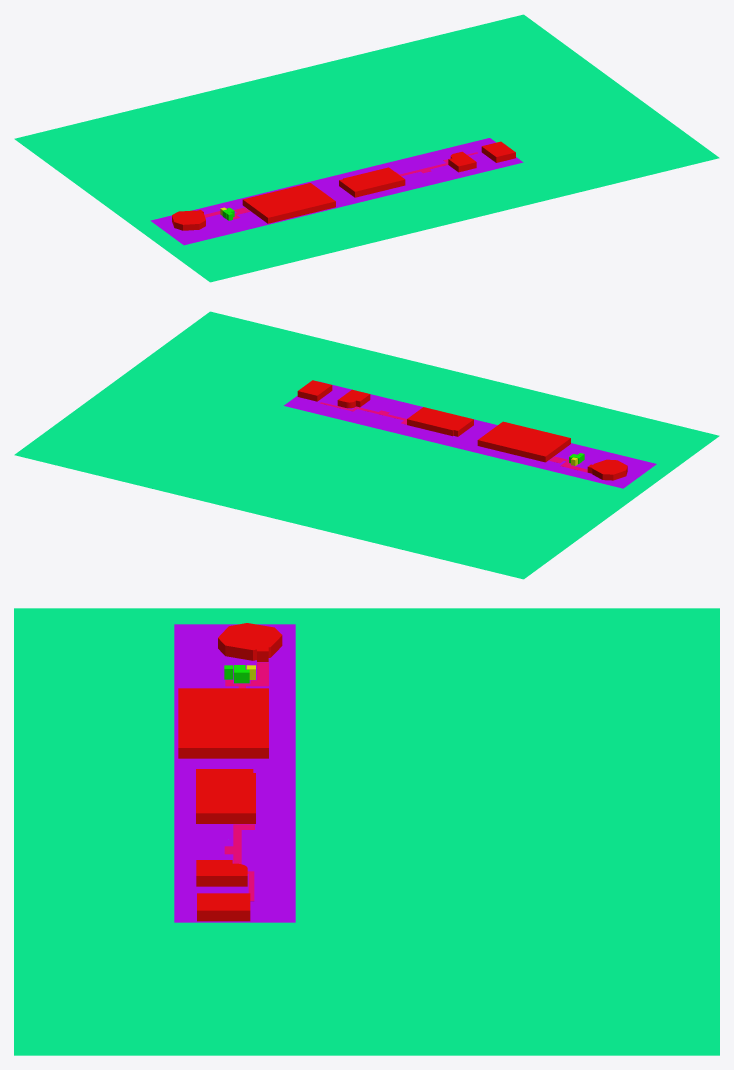
File: njc-b2.glb
3 views of the same model, one above another, from view 1: azimuth 30°, elevation 25°; view 2: azimuth 150°, elevation 25°; view 3: azimuth 270°, elevation 25° (orthographic). The views are drawn at different scales.
Parts seen in each view (by area): view 1: Grey, Base, Object.001, Object.002, Object, Object.004; view 2: Grey, Base, Object.001, Object.002, Object, Object.004, Object.003; view 3: Grey, Base, Object.001, Object.002, Object, Object.004, Object.003, Foot.001.
Boxes of the visible parts, box(x1,y1,x2,y2) form: Grey: box(14, 14, 719, 282); Base: box(150, 138, 523, 245); Object.001: box(242, 183, 335, 223); Object.002: box(339, 167, 405, 197); Object: box(172, 210, 205, 230); Object.004: box(481, 141, 515, 162); Grey: box(14, 311, 719, 579); Base: box(284, 381, 656, 488); Object.001: box(477, 421, 570, 462); Object.002: box(407, 407, 473, 436); Object: box(587, 459, 627, 480); Object.004: box(297, 380, 332, 401); Object.003: box(337, 389, 370, 408); Grey: box(14, 608, 719, 1055); Base: box(174, 624, 295, 922); Object.001: box(178, 688, 268, 758); Object.002: box(196, 769, 255, 823); Object: box(218, 623, 282, 661); Object.004: box(197, 893, 250, 921); Object.003: box(196, 860, 247, 886); Foot.001: box(224, 824, 254, 901).
Size of the model in its own units: 18 by 0.2 by 12.
